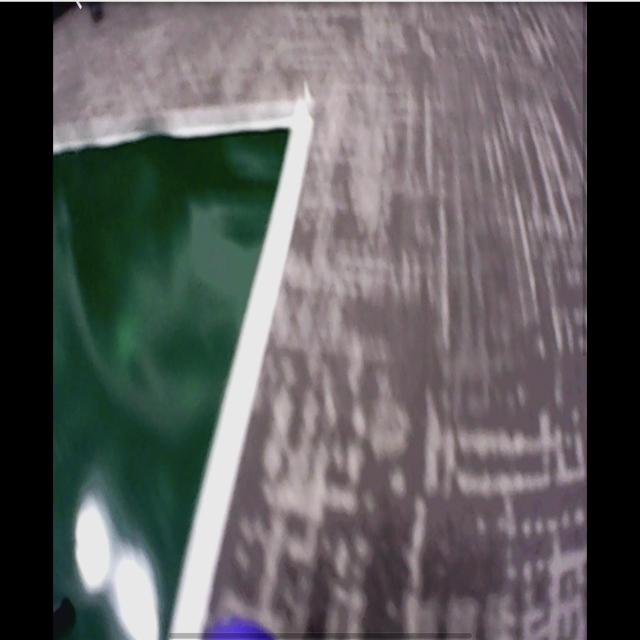ball: (208, 618, 275, 640)
